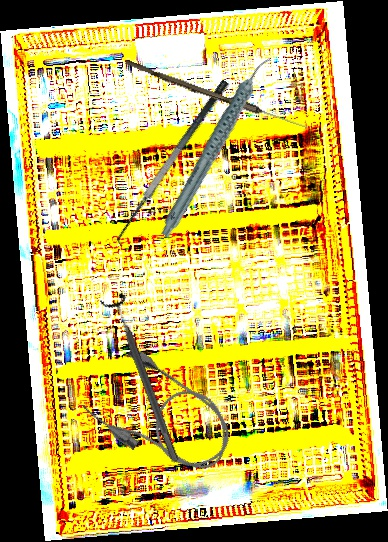Cannula: (77, 340, 246, 493)
Fixation Ring: (99, 290, 189, 468)
Handpiece: (128, 55, 307, 240)
Spatula Surgical: (107, 78, 243, 251)
Surgical Spoon: (123, 59, 310, 132)
